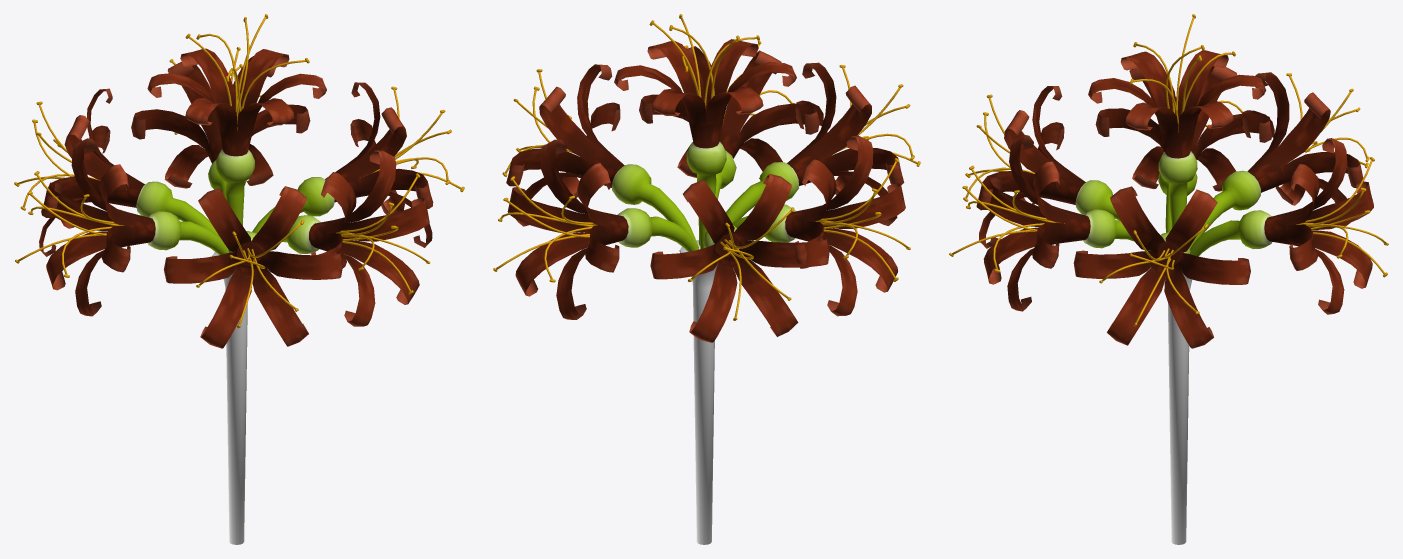
The model's file is Spidelilie_Mature.glb.
3 views of the same model, side by side, from view 1: azimuth 30°, elevation 25°; view 2: azimuth 150°, elevation 25°; view 3: azimuth 270°, elevation 25° (orthographic). The views are drawn at different scales.
Visible parts, largest first — view 1: Flower.001, Stem.001; view 2: Flower.001, Stem.001; view 3: Flower.001, Stem.001.
Part boxes in pixels (x1,y1,x2,y2): Flower.001: [14, 14, 464, 348]; Stem.001: [212, 252, 247, 544]; Flower.001: [493, 14, 920, 342]; Stem.001: [679, 240, 717, 544]; Flower.001: [949, 14, 1388, 348]; Stem.001: [1168, 254, 1201, 544].
Size of the model in its own units: 1.9 by 2.26 by 1.77.
Materials: 2 (1 with a texture image).
